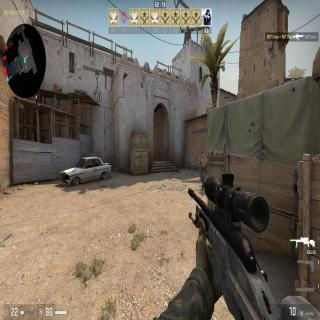T-Body: (199, 151, 207, 188)
T-Head: (201, 152, 204, 158)
